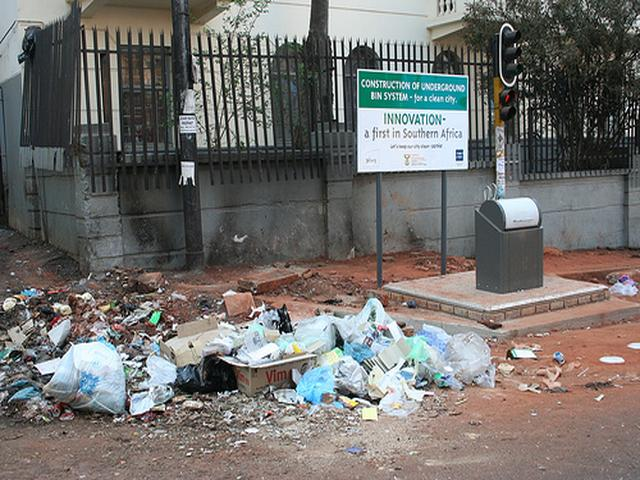garbage: (5, 318, 413, 402)
